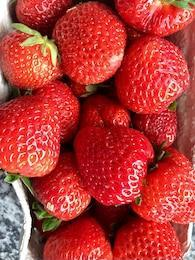Fresa: (70, 121, 157, 212), (109, 32, 193, 120), (1, 91, 62, 183), (1, 25, 59, 92)
